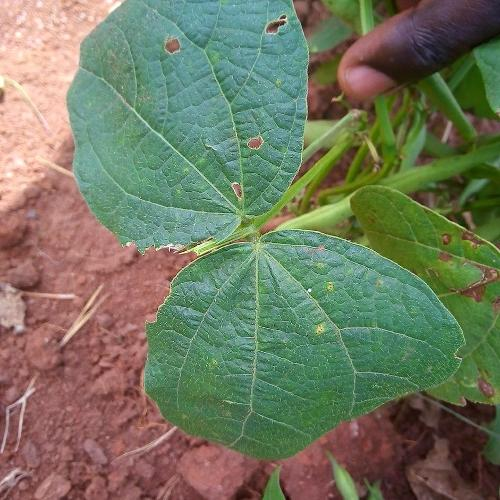hawar: (206, 126, 271, 225), (156, 32, 180, 75), (260, 16, 291, 44)
mozaik: (199, 260, 373, 423)
